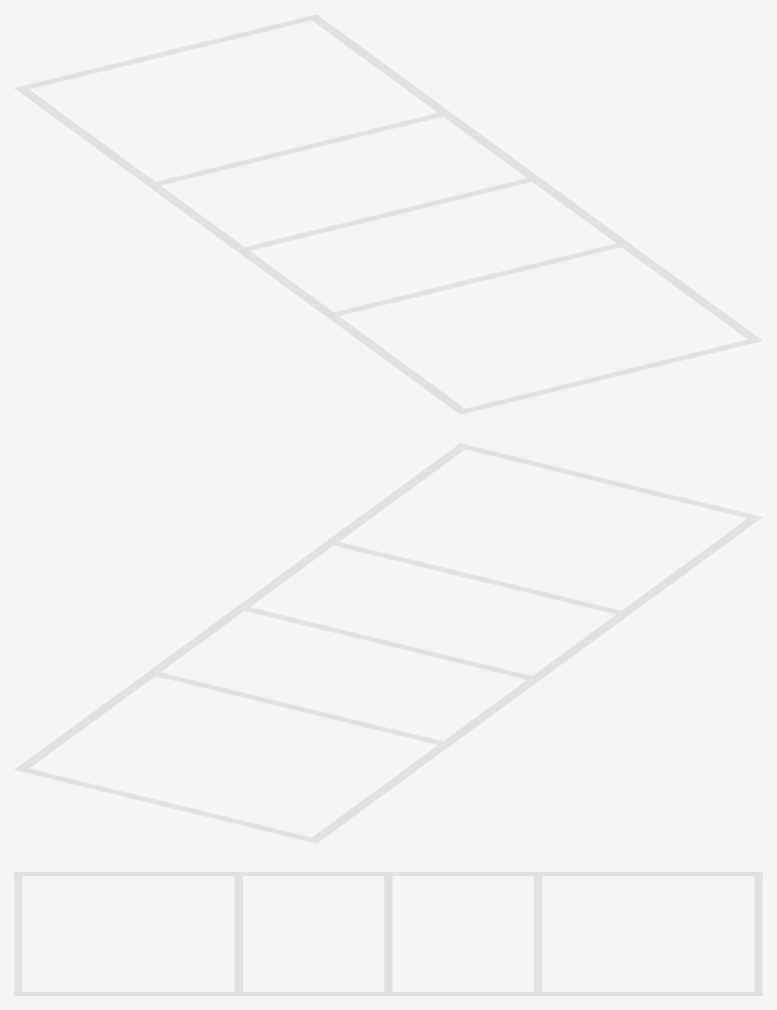
File: lines.glb
3 renders of one model, top to bottom at view 1: azimuth 30°, elevation 25°; view 2: azimuth 150°, elevation 25°; view 3: azimuth 270°, elevation 25°, orthographic. The views are drawn at different scales.
Parts seen in each view (by area): view 1: Plane.007; view 2: Plane.007; view 3: Plane.007.
Boxes of the visible parts, bbox=[...] form: Plane.007: bbox=[14, 14, 762, 414]; Plane.007: bbox=[14, 443, 762, 843]; Plane.007: bbox=[14, 872, 762, 995].
Bounding box in the file's own units: 211 × 2.88e-07 × 539.
1 material, 1 textured.
